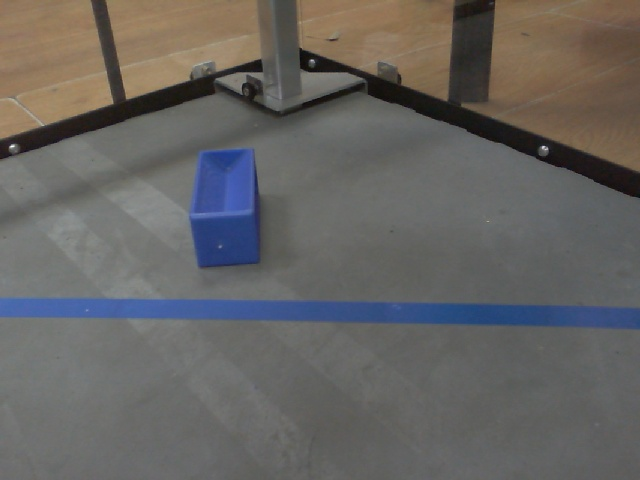BlueSample: (186, 145, 267, 267)
